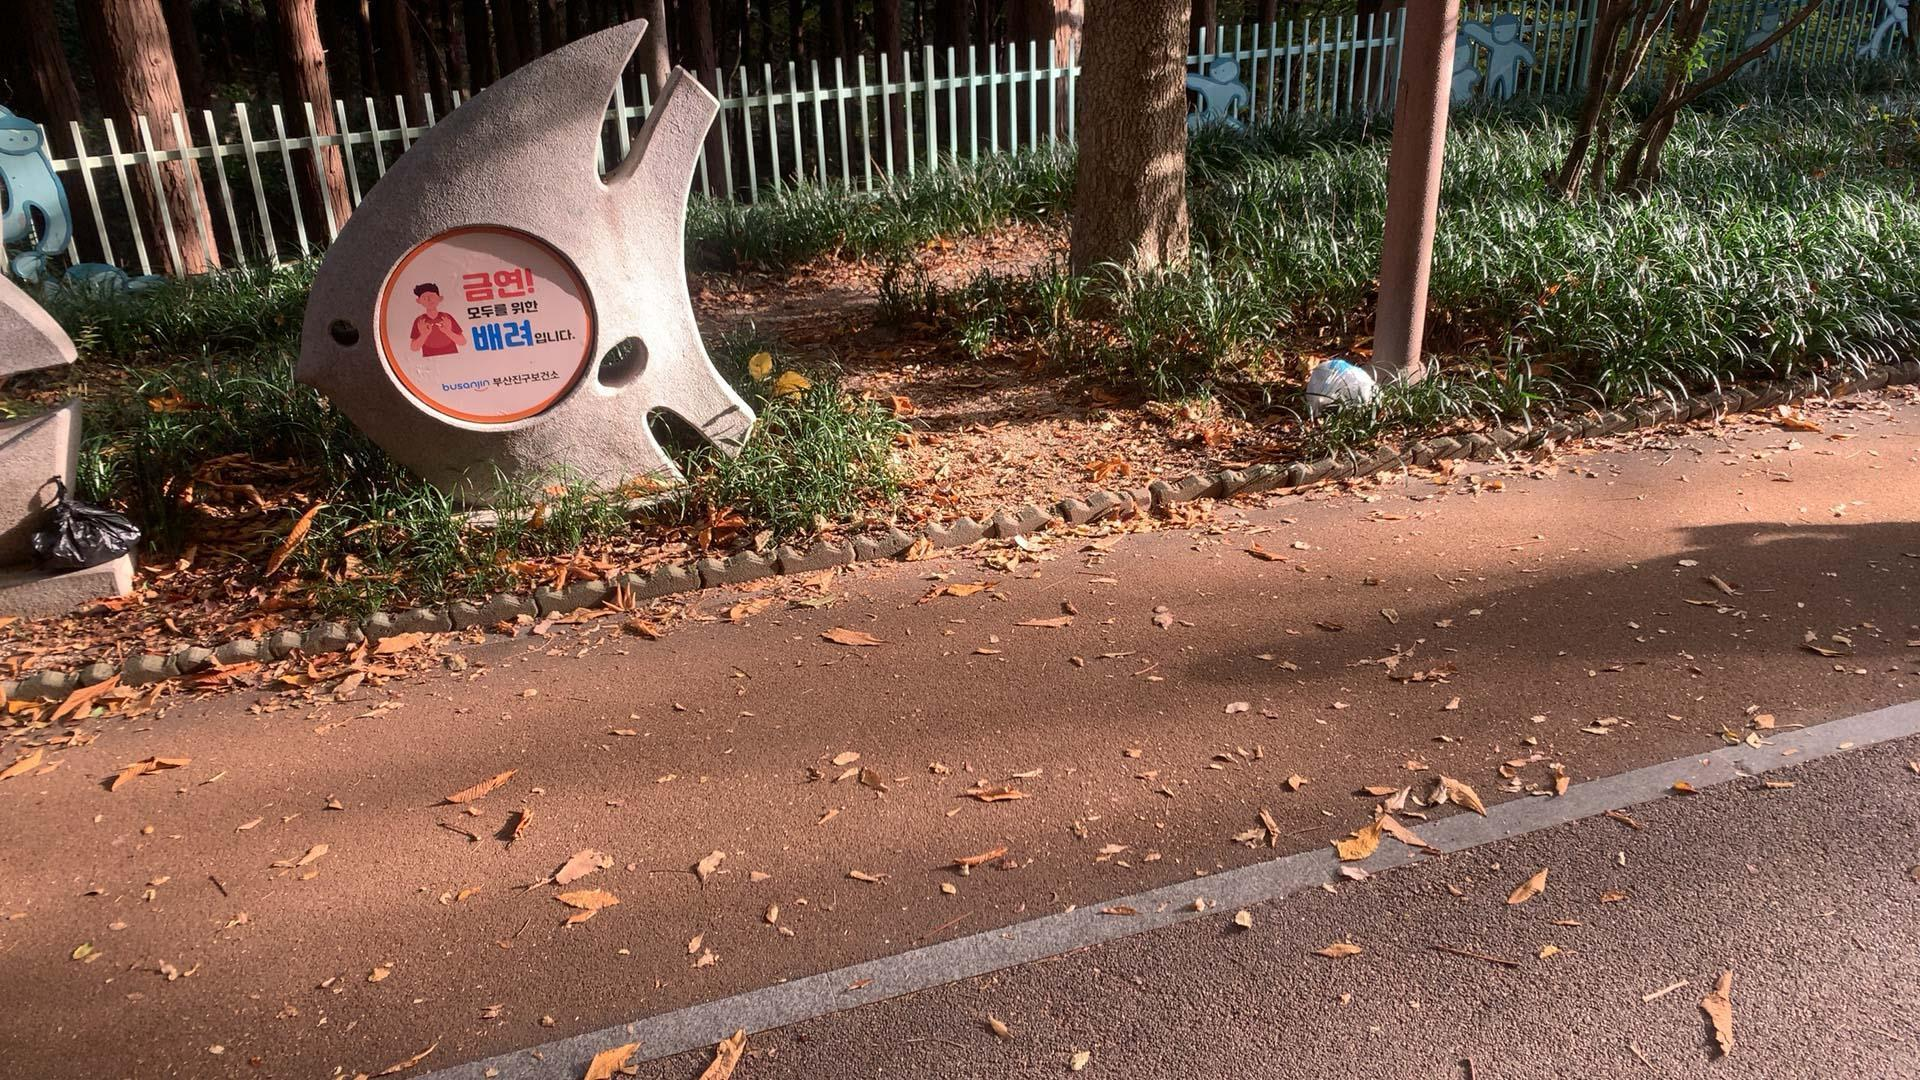white_bag: (1302, 357, 1389, 423)
